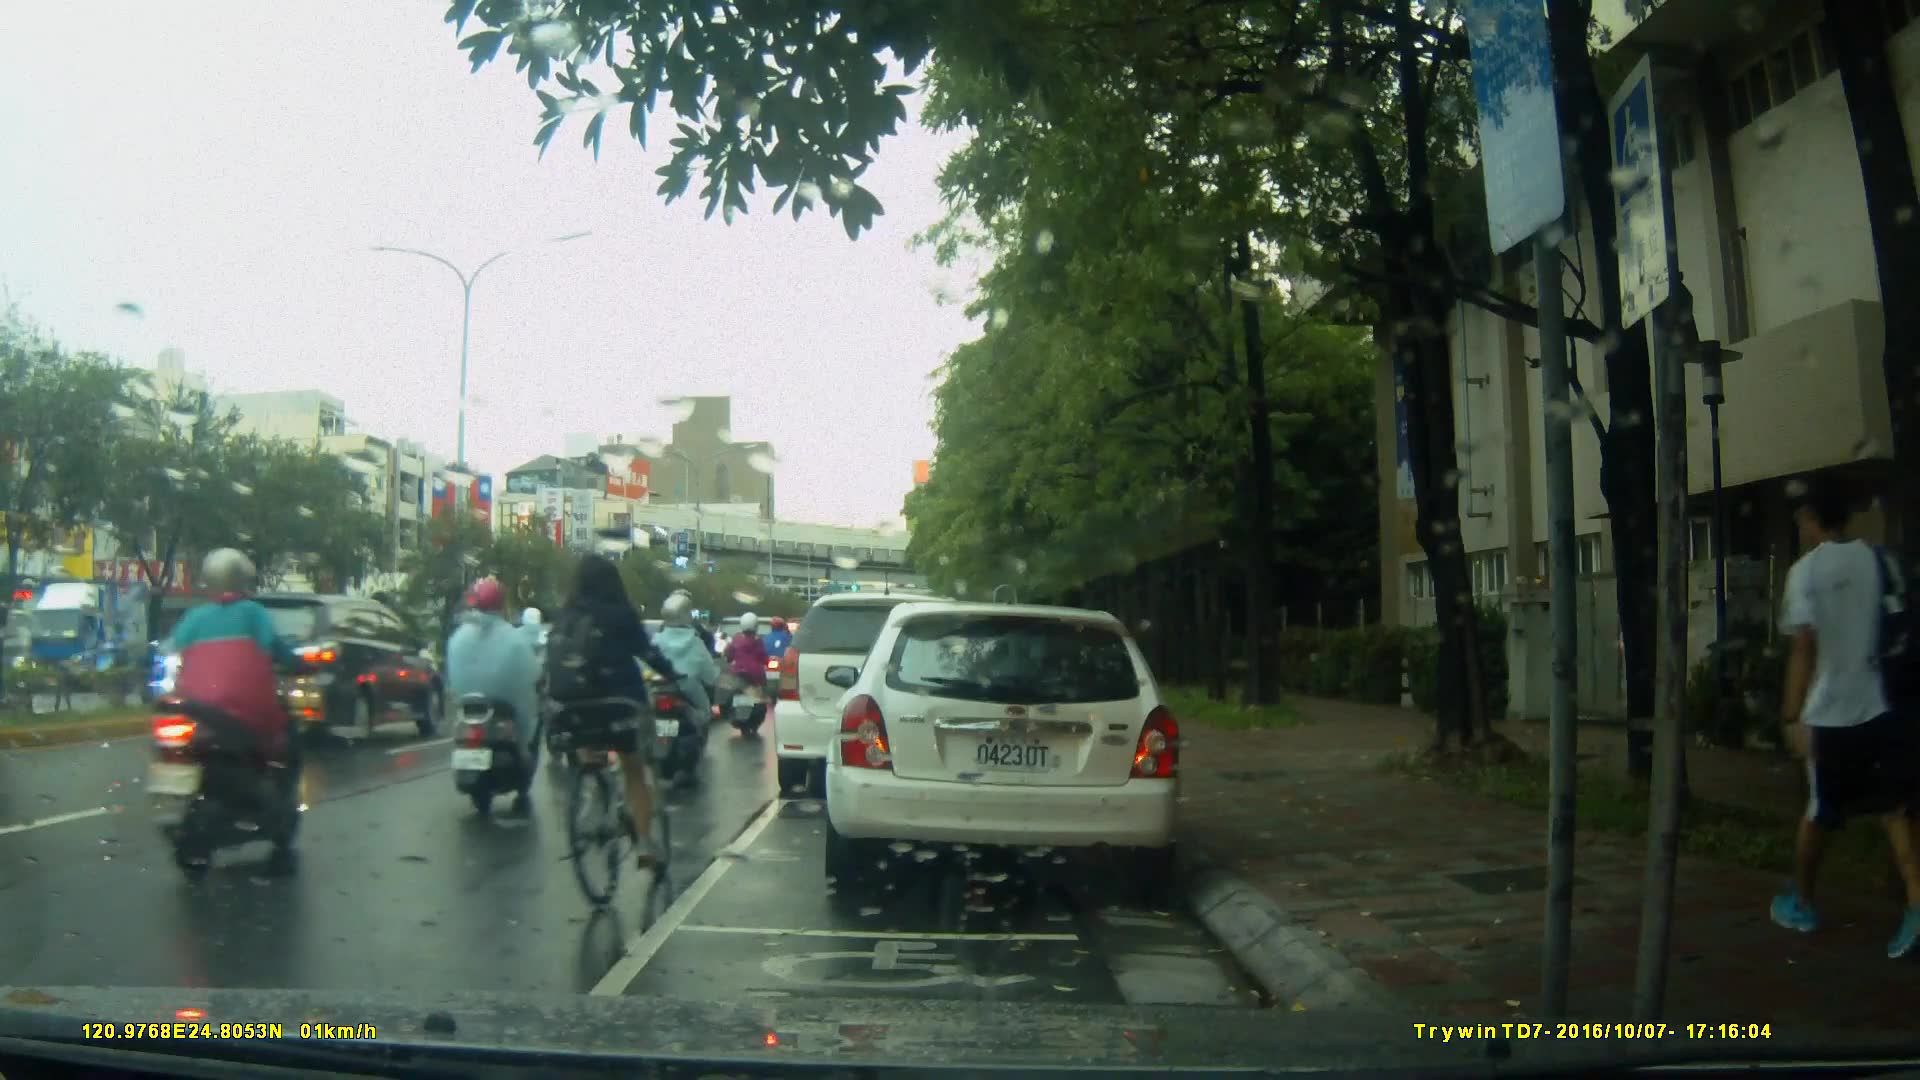pedestrian: (1772, 468, 1920, 968)
rider: (143, 549, 305, 872), (554, 549, 671, 901), (442, 579, 548, 823), (645, 593, 721, 775), (650, 589, 727, 762), (557, 596, 631, 771), (507, 611, 574, 747), (722, 619, 776, 744), (751, 612, 796, 688)
vehicle: (822, 604, 1188, 883), (774, 595, 995, 802), (183, 592, 452, 750), (20, 576, 161, 697)
